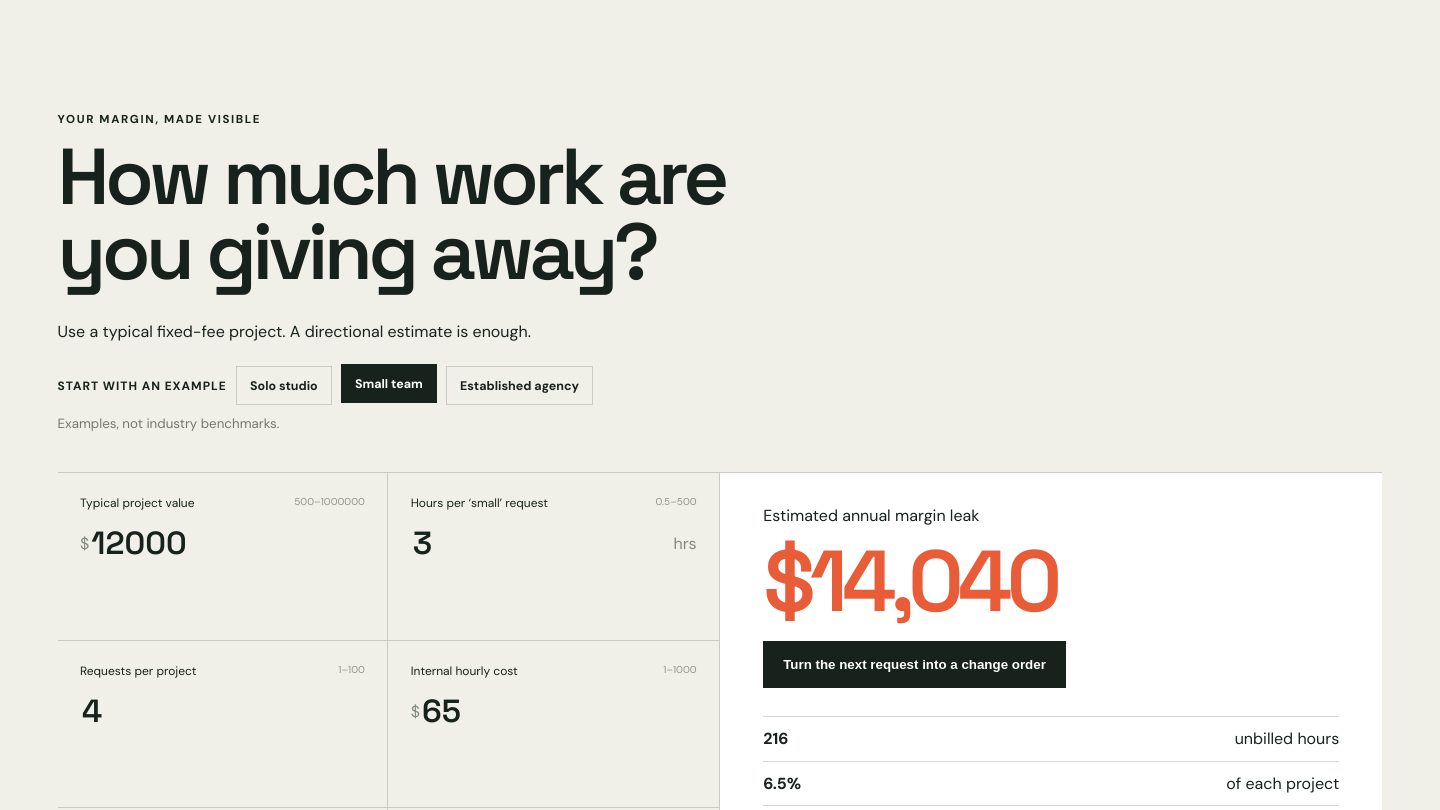
Test: calculator journey › offers transparent starting examples
Click the button "Solo studio" at (284, 386), box [236, 366, 332, 405]
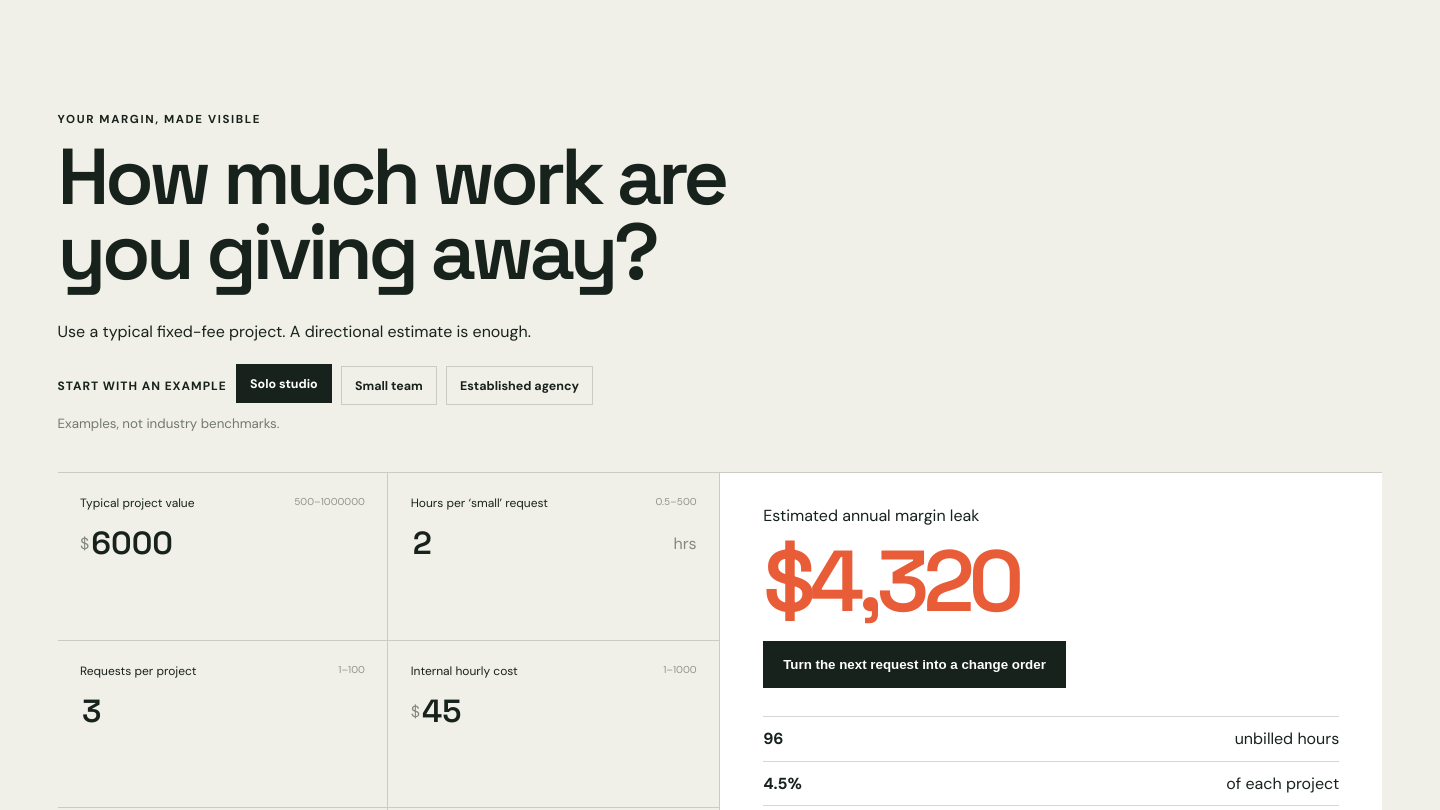
Expected: the text "Examples, not industry benchmarks." is shown, [58, 415, 279, 432]
Result: the number field labelled "Typical project value" holds "6000" at [89, 522, 365, 564]
